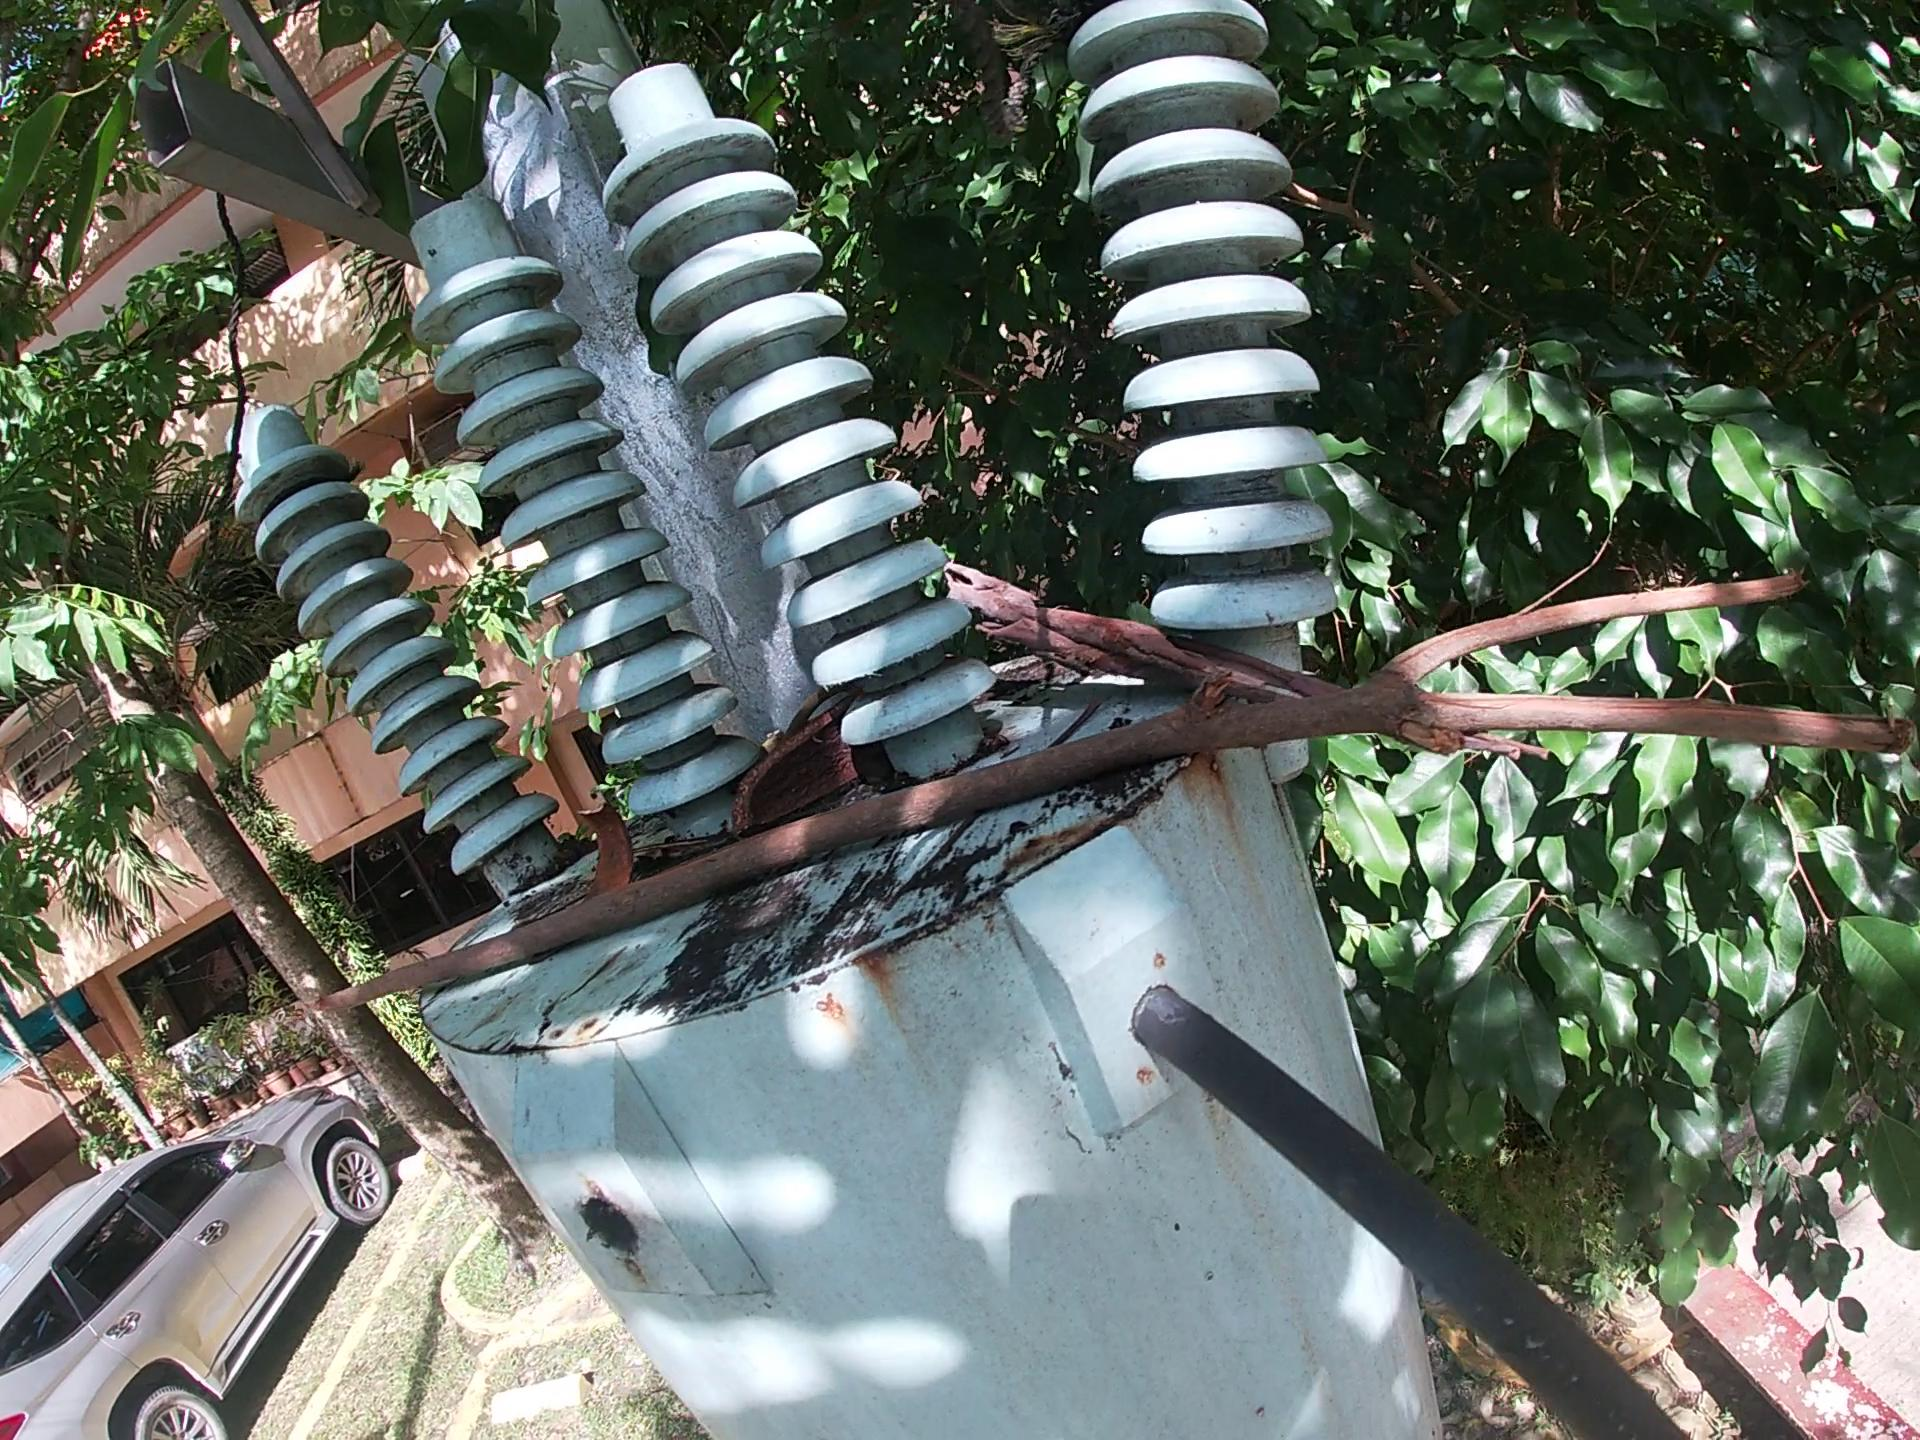mahogany fruit: (723, 702, 859, 841), (568, 802, 639, 902)
tree branch: (302, 552, 1917, 1032), (934, 554, 1557, 771)
